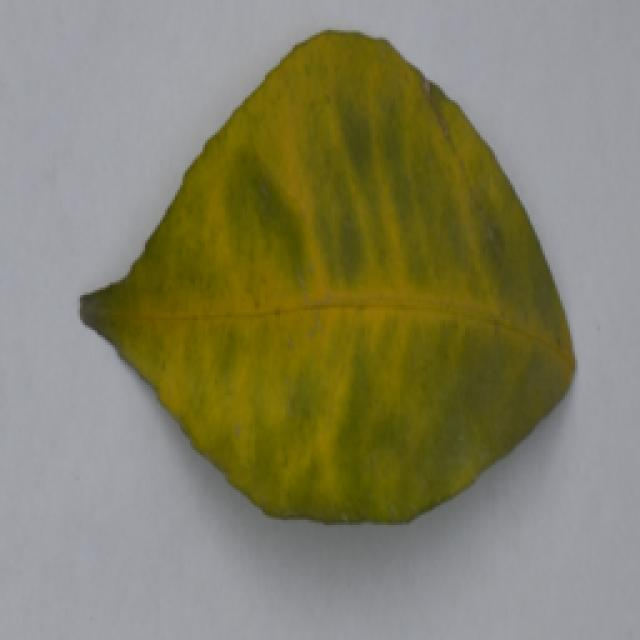greening: (56, 25, 599, 539)
